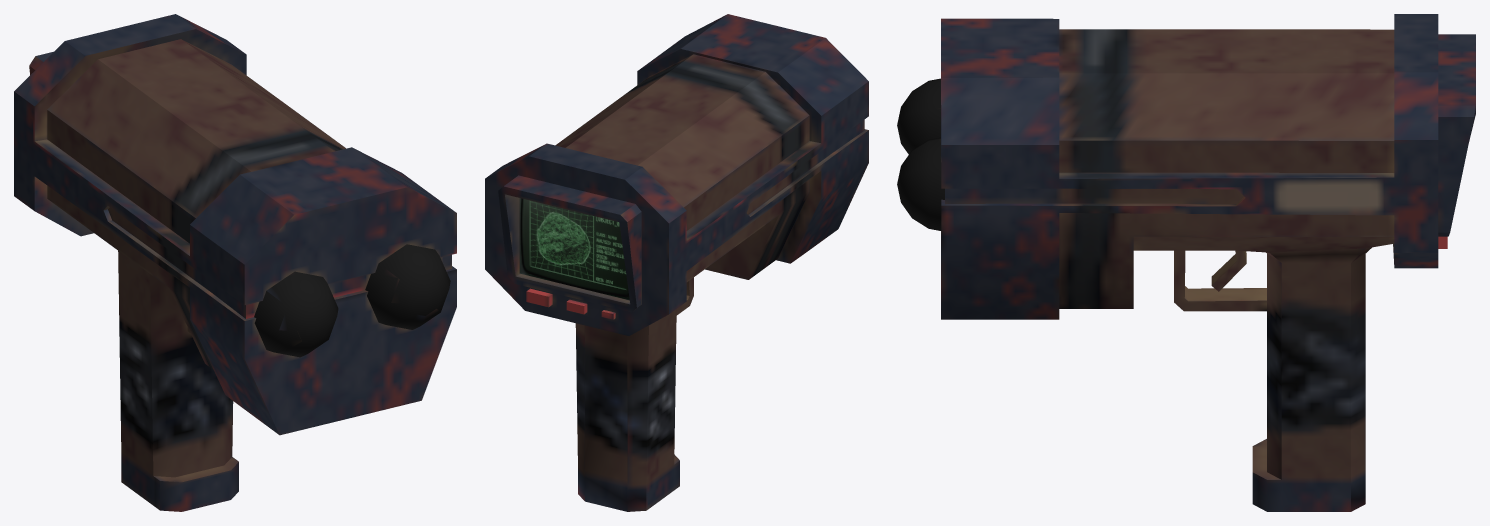
Rendered from Scanner.fbx.
3 views of the same model, side by side, from view 1: azimuth 30°, elevation 25°; view 2: azimuth 150°, elevation 25°; view 3: azimuth 270°, elevation 25° (orthographic). The views are drawn at different scales.
Parts seen in each view (by area): view 1: Cube.001; view 2: Cube.001; view 3: Cube.001.
Part boxes in pixels (box(x1,y1,x2,y2)): Cube.001: box(14, 14, 456, 511); Cube.001: box(485, 14, 868, 511); Cube.001: box(897, 14, 1475, 511).
Bounding box in the file's own units: 271 × 506 × 592.
2 materials, 2 textured.
